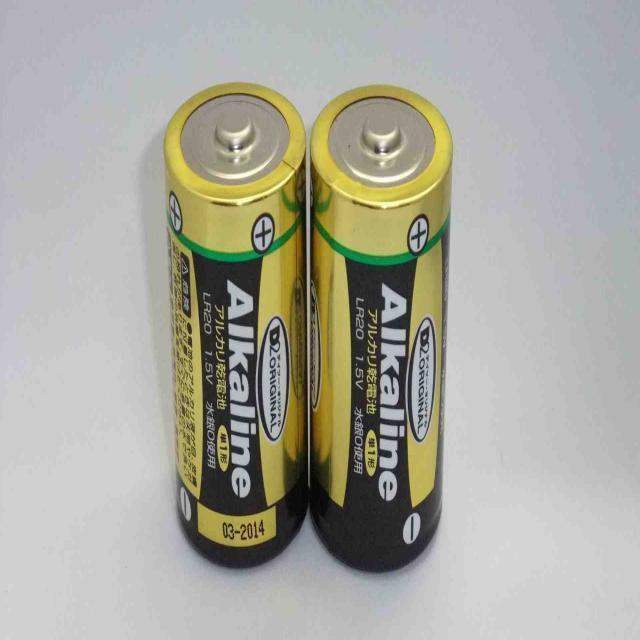Hazard: (161, 78, 313, 578), (310, 82, 455, 576)
